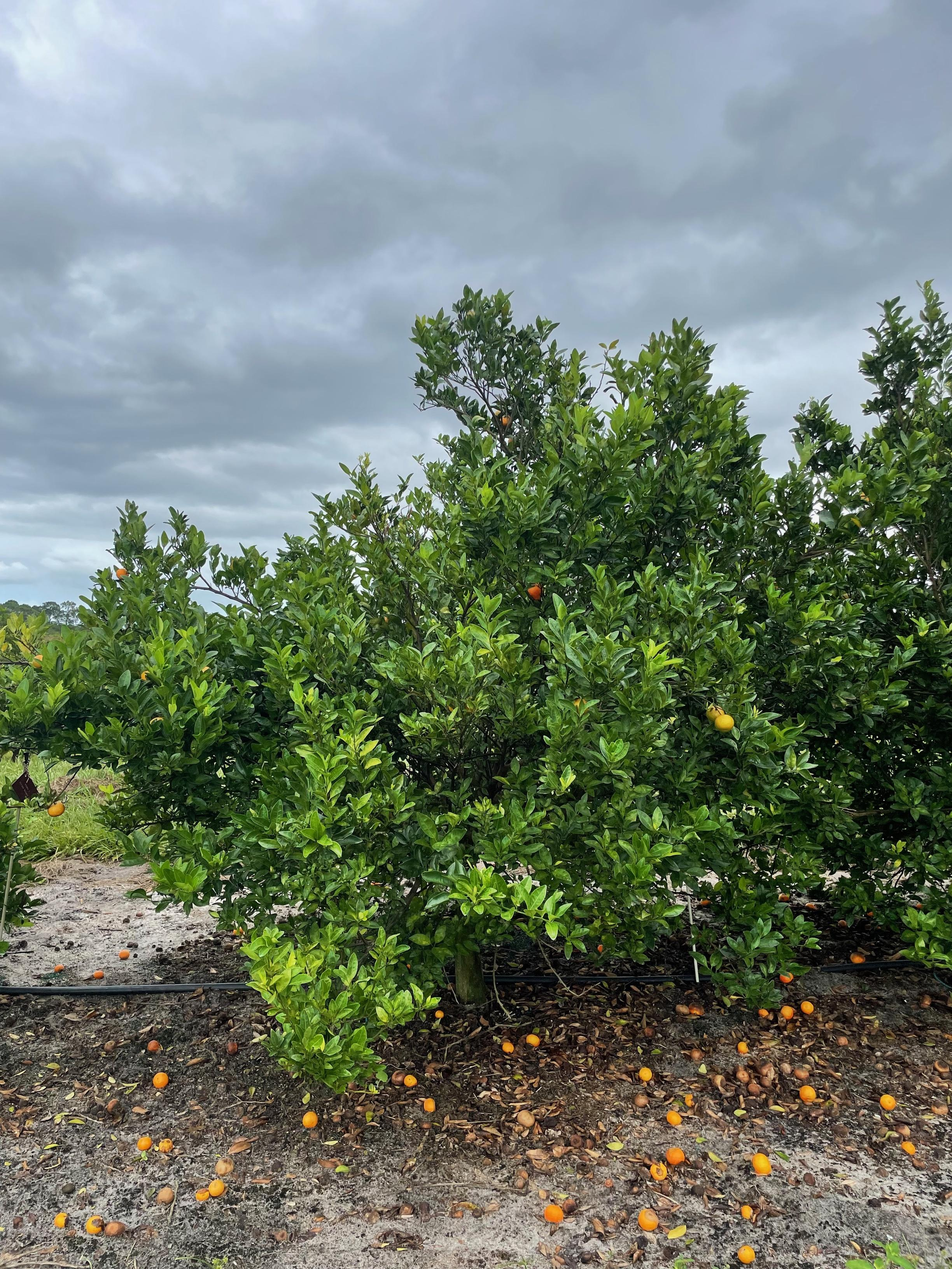fruit_on_ground: (569, 696, 594, 719), (712, 711, 737, 734), (524, 580, 547, 603), (704, 704, 727, 724), (46, 799, 66, 818), (30, 652, 48, 670), (114, 565, 131, 581), (498, 414, 514, 430)
fruit_on_tree: (637, 1207, 662, 1232), (750, 1151, 773, 1175), (735, 1243, 757, 1266), (83, 1214, 105, 1235), (543, 1203, 565, 1224), (648, 1161, 669, 1182), (154, 1185, 175, 1206), (214, 1156, 236, 1176), (516, 1107, 537, 1127), (665, 1145, 686, 1165), (207, 1177, 227, 1197), (754, 1058, 776, 1076), (797, 1083, 817, 1102), (878, 1092, 898, 1111), (301, 1110, 320, 1130), (151, 1070, 170, 1090), (733, 1067, 753, 1084), (522, 1031, 542, 1048), (740, 1202, 758, 1220), (930, 1099, 949, 1116), (894, 1121, 912, 1138), (52, 1210, 69, 1228), (136, 1134, 154, 1151), (712, 1073, 731, 1089), (223, 1039, 240, 1056), (637, 1065, 654, 1082), (193, 1186, 210, 1203), (157, 1136, 174, 1153), (665, 1110, 682, 1127), (560, 1195, 576, 1213), (689, 1001, 707, 1017), (900, 1139, 918, 1155), (633, 1092, 651, 1108), (60, 1180, 77, 1196), (390, 1070, 407, 1086), (145, 1037, 162, 1053), (779, 1003, 795, 1020), (105, 1098, 123, 1113), (849, 950, 867, 965), (501, 1038, 517, 1054), (402, 1072, 418, 1088), (799, 998, 815, 1014), (793, 1066, 810, 1081), (674, 1001, 690, 1016), (689, 1046, 705, 1061), (746, 1080, 762, 1095), (422, 1097, 437, 1113), (778, 970, 795, 984), (231, 924, 246, 938), (345, 1078, 359, 1092), (103, 1039, 117, 1053), (736, 1040, 750, 1054), (682, 1092, 695, 1107), (698, 895, 713, 908), (778, 1061, 793, 1074), (117, 947, 131, 960), (835, 1035, 850, 1047), (757, 1006, 770, 1019), (836, 917, 850, 929), (777, 890, 791, 902), (433, 1008, 446, 1020), (92, 967, 105, 979), (52, 962, 66, 973), (222, 942, 235, 953), (804, 900, 817, 911), (595, 943, 607, 954), (865, 908, 876, 919), (914, 901, 925, 910)
